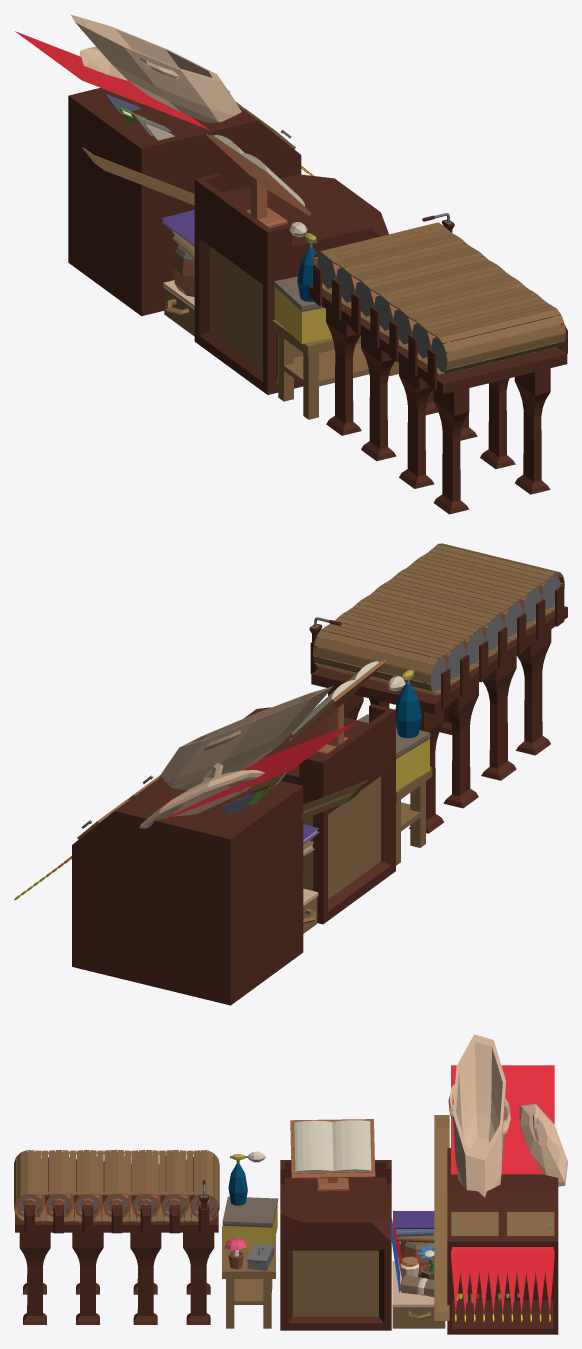
Rendered from levelnolights.fbx.
3 renders of one model, top to bottom at view 1: azimuth 30°, elevation 25°; view 2: azimuth 150°, elevation 25°; view 3: azimuth 270°, elevation 25°, orthographic. The views are drawn at different scales.
Parts seen in each view (by area): view 1: Cube.005, Mesa do meio, Cube.002, Cube.004, Cube.026, Cube.070, Cube.024, Cube.001, Plane.001, Book Holder, Cube.016, Torus.001 (+5 smaller); view 2: Cube.005, Cube.002, Mesa do meio, Cube.004, Cube.026, Cube.070, Torus, Plane.001, Cube.024, Cube.001, Cylinder.004, Book Holder (+4 smaller); view 3: Mesa do meio, Cube.005, Cube.002, Plane.001, Cube.004, Cube.026, book, Cube.070, Cube.016, Cube.024, Cube.001, Torus (+16 smaller).
Part boxes in pixels (bbox=[...]): Cube.005: bbox=[68, 88, 301, 316]; Mesa do meio: bbox=[194, 173, 388, 394]; Cube.002: bbox=[312, 222, 565, 375]; Cube.004: bbox=[326, 309, 550, 514]; Cube.026: bbox=[70, 14, 241, 122]; Cube.070: bbox=[309, 219, 567, 394]; Cube.024: bbox=[272, 319, 398, 419]; Cube.001: bbox=[274, 276, 332, 344]; Plane.001: bbox=[15, 31, 313, 175]; Book Holder: bbox=[206, 133, 311, 228]; Cube.016: bbox=[82, 147, 194, 205]; Torus.001: bbox=[163, 280, 194, 336]; Cube.005: bbox=[72, 775, 303, 1005]; Cube.002: bbox=[313, 543, 564, 695]; Mesa do meio: bbox=[244, 704, 395, 924]; Cube.004: bbox=[328, 629, 551, 833]; Cube.026: bbox=[158, 686, 333, 790]; Cube.070: bbox=[309, 585, 567, 714]; Torus: bbox=[139, 762, 265, 828]; Plane.001: bbox=[14, 722, 356, 900]; Cube.024: bbox=[396, 766, 432, 865]; Cube.001: bbox=[357, 714, 430, 790]; Cylinder.004: bbox=[387, 670, 421, 738]; Book Holder: bbox=[286, 660, 386, 755]; Mesa do meio: bbox=[280, 1160, 391, 1330]; Cube.005: bbox=[447, 1148, 558, 1334]; Cube.002: bbox=[14, 1149, 219, 1222]; Plane.001: bbox=[451, 1065, 554, 1321]; Cube.004: bbox=[19, 1232, 214, 1324]; Cube.026: bbox=[448, 1034, 510, 1197]; book: bbox=[292, 1120, 373, 1173]; Cube.070: bbox=[15, 1195, 218, 1233]; Cube.016: bbox=[434, 1115, 449, 1320]; Cube.024: bbox=[222, 1226, 275, 1328]; Cube.001: bbox=[222, 1196, 277, 1250]; Torus: bbox=[519, 1103, 567, 1186].
Bounding box in the file's own units: 223 × 223 × 498.
